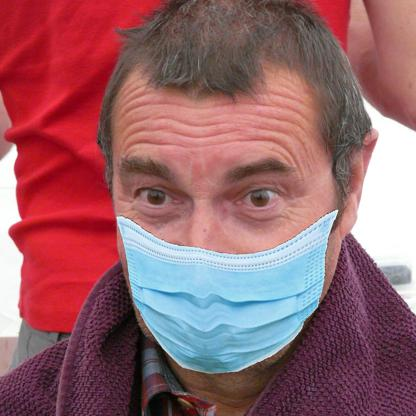mask: (116, 213, 328, 372)
